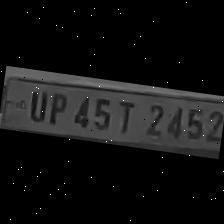2: (138, 97, 168, 138), (202, 104, 224, 142)
4: (66, 90, 94, 128), (162, 102, 186, 138)
5: (86, 92, 114, 132), (181, 103, 206, 140)
P: (42, 87, 70, 125)
T: (110, 96, 138, 136)
U: (22, 86, 50, 123)
